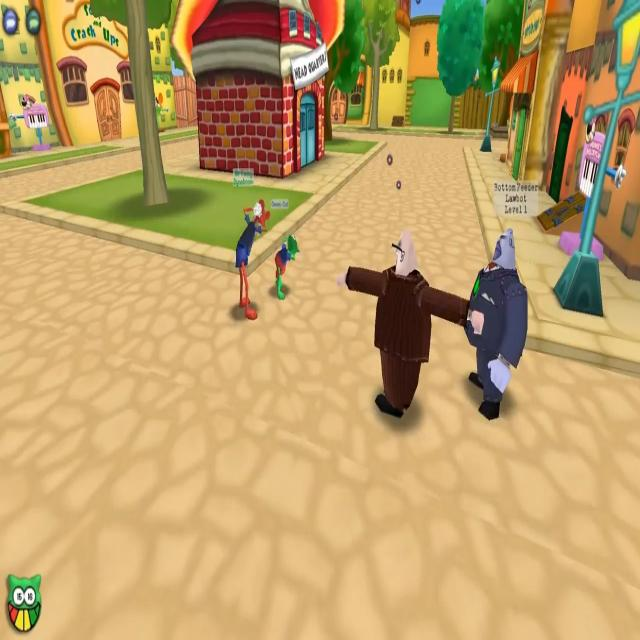bottomfeeder: (457, 179, 543, 418)
flunky: (335, 207, 473, 420)
